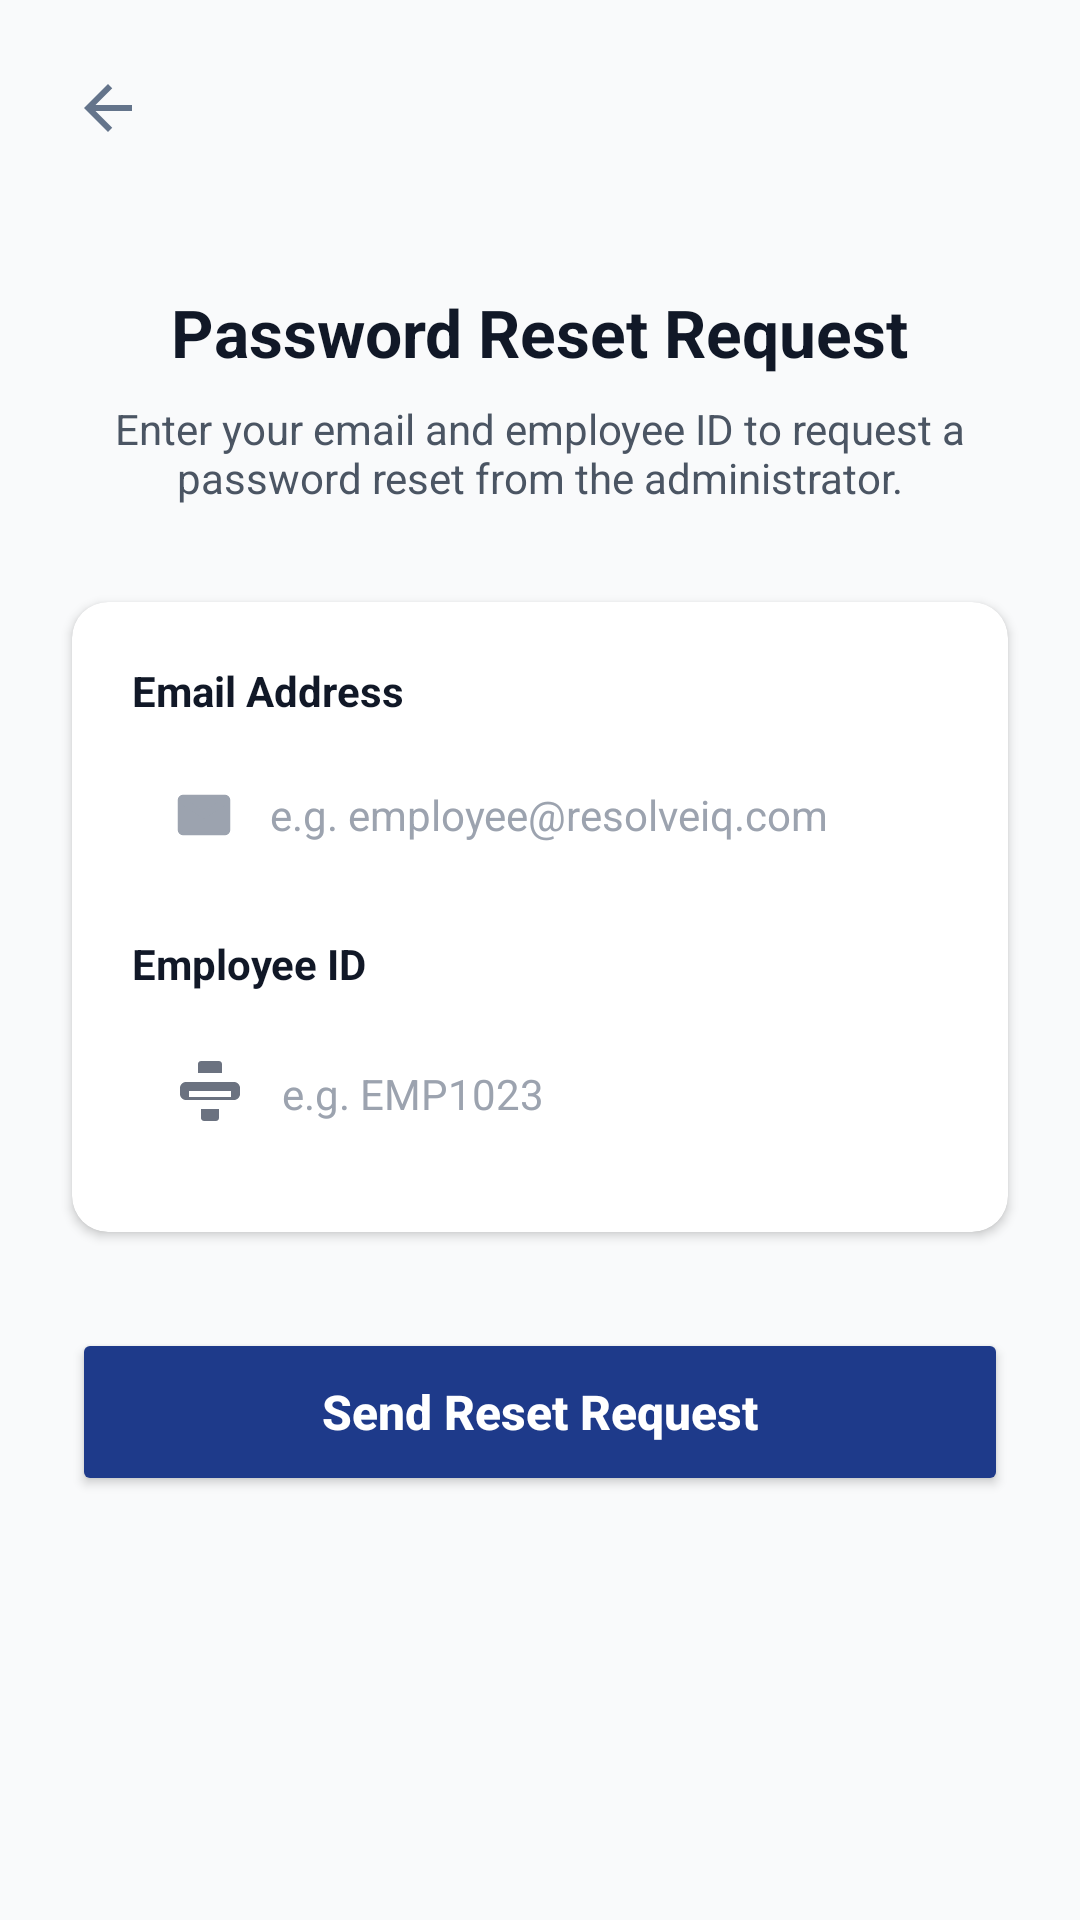

Point at icon controls on the screen. Image size 1080*1920, points as (x,y).
Go Back: (108,108)
